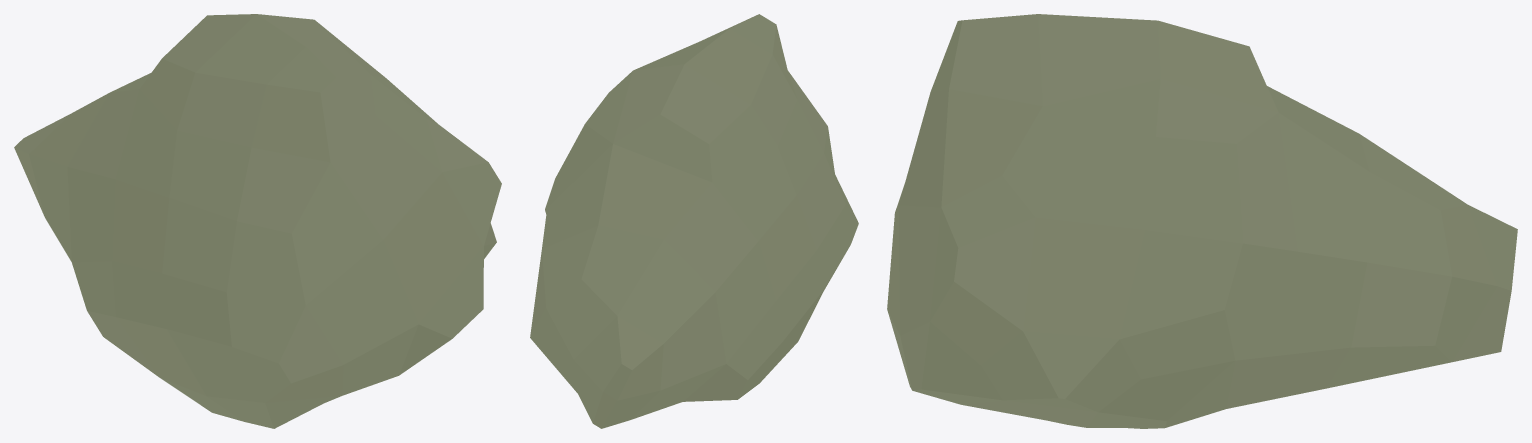
The model's file is rock 1.fbx.
3 views of the same model, side by side, from view 1: azimuth 30°, elevation 25°; view 2: azimuth 150°, elevation 25°; view 3: azimuth 270°, elevation 25° (orthographic). The views are drawn at different scales.
Parts seen in each view (by area): view 1: Cube.028; view 2: Cube.028; view 3: Cube.028.
Boxes of the visible parts, x1,y1,x2,y2 form: Cube.028: (14, 14, 501, 428); Cube.028: (530, 14, 858, 428); Cube.028: (887, 14, 1517, 428).
Bounding box in the file's own units: 307 × 360 × 463.
